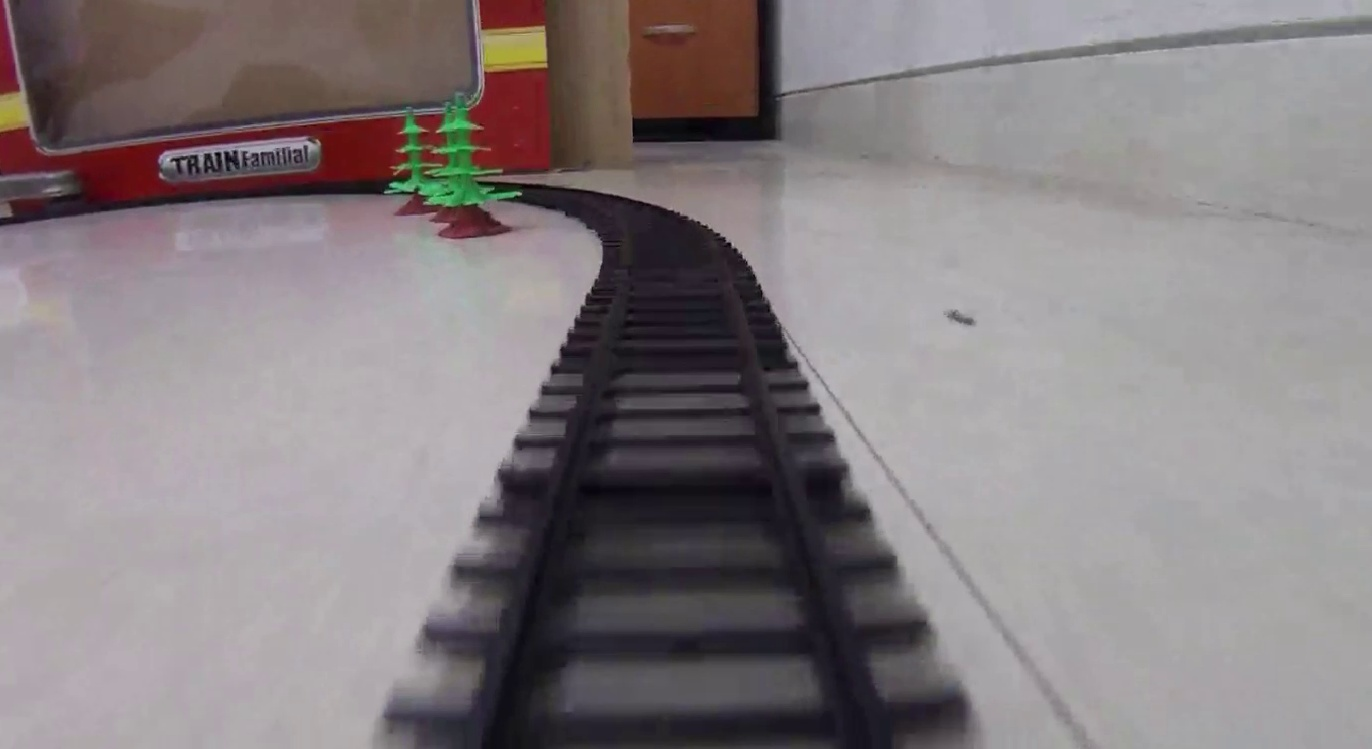tree: (434, 93, 508, 239), (389, 109, 442, 212)
